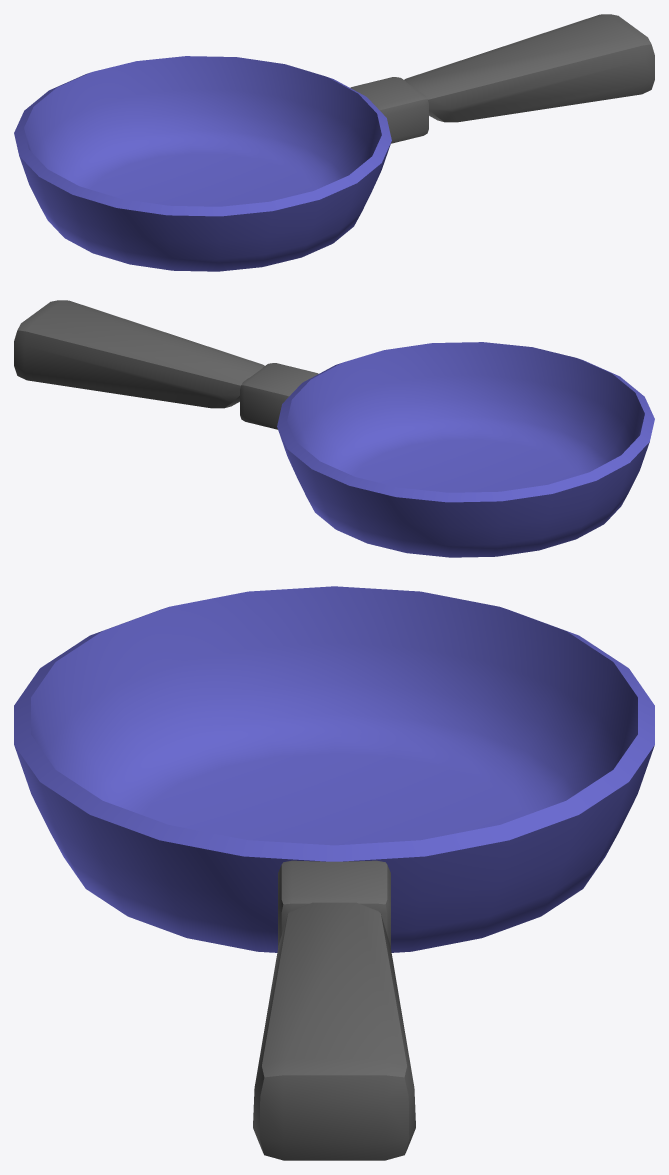
Rendered from SM_pan_01.fbx.
3 renders of one model, top to bottom at view 1: azimuth 30°, elevation 25°; view 2: azimuth 150°, elevation 25°; view 3: azimuth 270°, elevation 25°, orthographic. The views are drawn at different scales.
Visible parts, largest first — view 1: Box387; view 2: Box387; view 3: Box387.
Part boxes in pixels (x1,y1,x2,y2): Box387: (14,14,654,271); Box387: (14,300,654,557); Box387: (14,586,654,1160).
Size of the model in its own units: 29.13 by 4.15 by 15.8.
